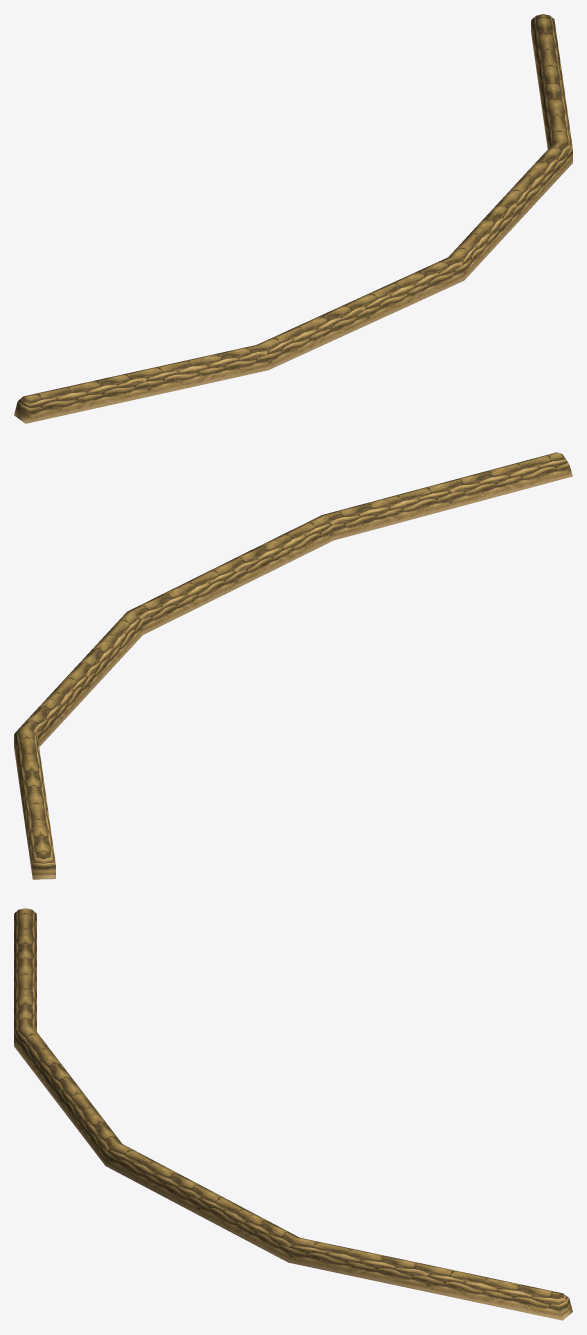
The model's file is M8_Zone1_Sandbags2.glb.
3 views of the same model, one above another, from view 1: azimuth 30°, elevation 25°; view 2: azimuth 210°, elevation 25°; view 3: azimuth 270°, elevation 25° (orthographic). The views are drawn at different scales.
Parts seen in each view (by area): view 1: M8_ZONE1_SANDBAGS2; view 2: M8_ZONE1_SANDBAGS2; view 3: M8_ZONE1_SANDBAGS2.
Part boxes in pixels (x1=…): M8_ZONE1_SANDBAGS2: x1=14, y1=14, x2=572, y2=423; M8_ZONE1_SANDBAGS2: x1=14, y1=452, x2=572, y2=879; M8_ZONE1_SANDBAGS2: x1=14, y1=908, x2=572, y2=1320.
Size of the model in its own units: 20 by 0.717 by 12.22.
1 material, 1 textured.
